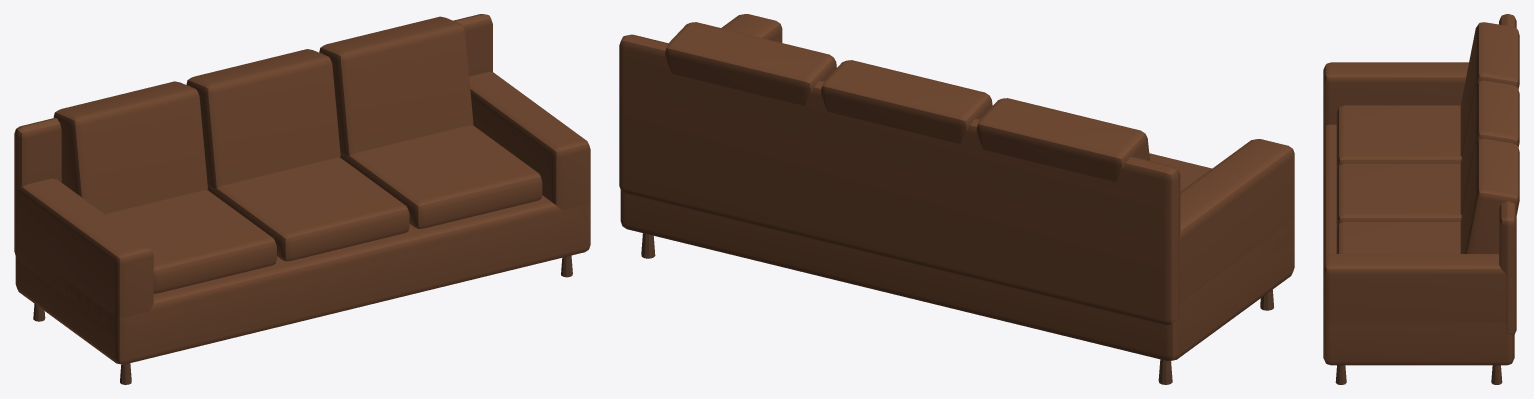
The model's file is bgd_sofa_3.glb.
The picture shows the model from 3 angles, left to right: view 1: azimuth 30°, elevation 25°; view 2: azimuth 150°, elevation 25°; view 3: azimuth 270°, elevation 25°; orthographic projection. The views are drawn at different scales.
Parts seen in each view (by area): view 1: bgd_sofa_3; view 2: bgd_sofa_3; view 3: bgd_sofa_3.
Boxes of the visible parts, x1,y1,x2,y2 form: bgd_sofa_3: (14,14,590,384); bgd_sofa_3: (619,14,1294,384); bgd_sofa_3: (1323,14,1519,384).
Bounding box in the file's own units: 2.22 × 0.8978 × 0.8823.
